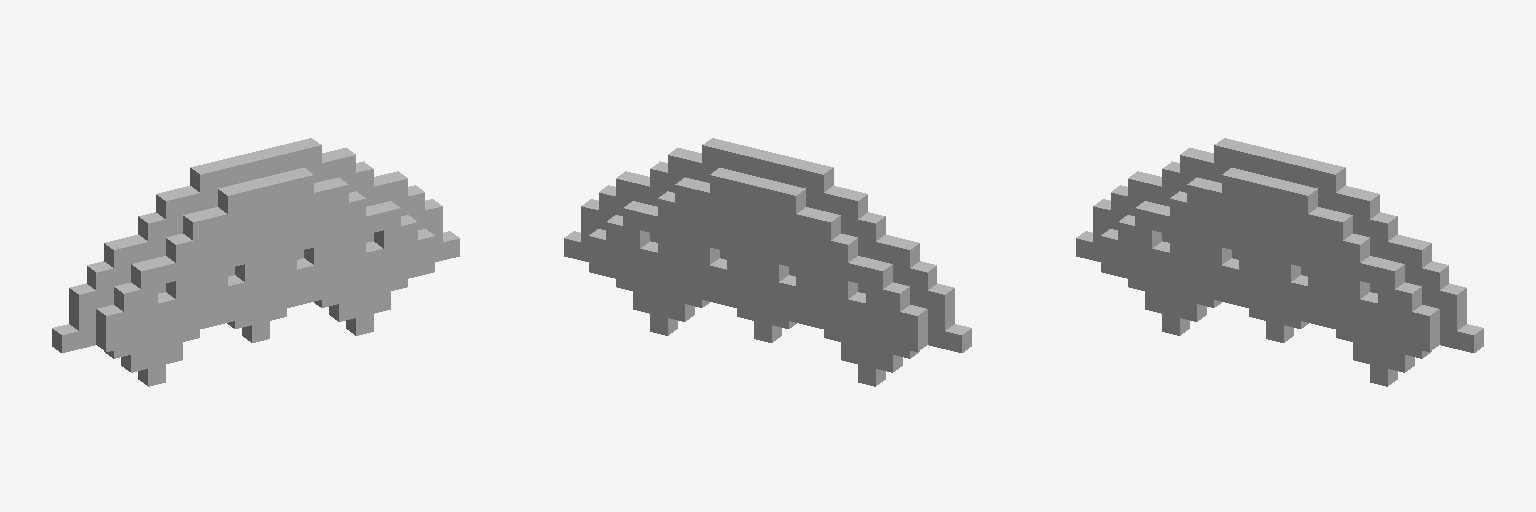
Rendered from ufo.obj.
3 renders of one model, left to right at view 1: azimuth 30°, elevation 25°; view 2: azimuth 150°, elevation 25°; view 3: azimuth 330°, elevation 25°, orthographic.
Visible parts, largest first — view 1: ufo; view 2: ufo; view 3: ufo.
Part boxes in pixels (left/top/right/bottom): ufo: left=52, top=138, right=459, bottom=386; ufo: left=564, top=138, right=971, bottom=386; ufo: left=1076, top=138, right=1483, bottom=386.
Size of the model in its own units: 23 by 11 by 3.